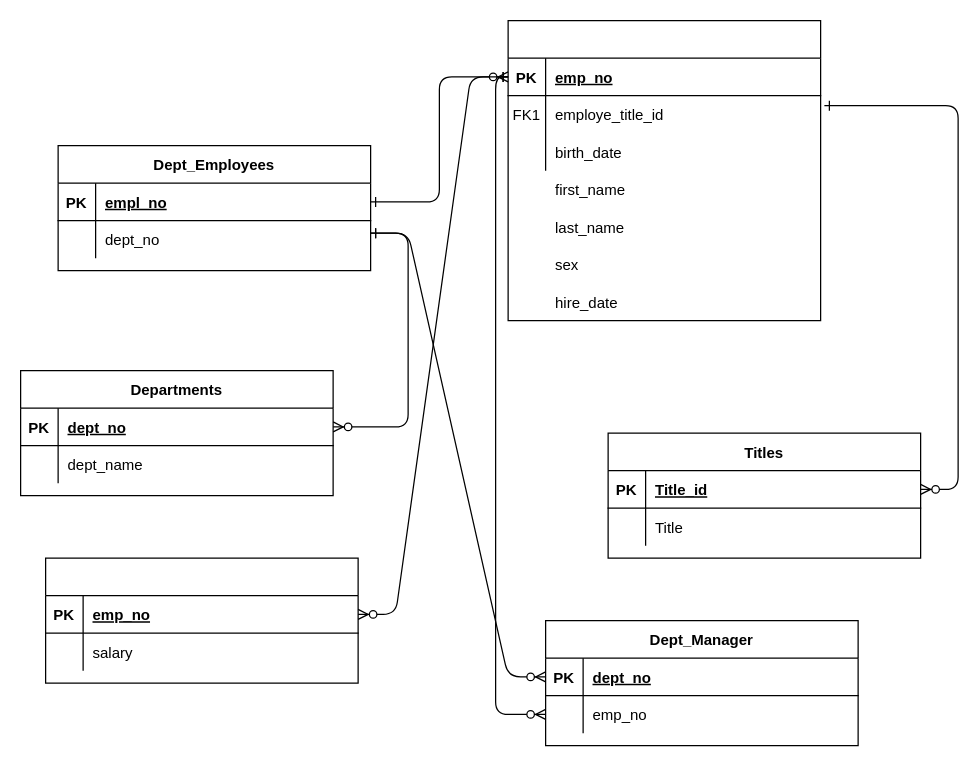
Image size: 979x766. Some labels were removed from this diagram. The box of each missing label's shape, as (x1, y1, x2, y2) in pixels:
Employees: (507, 19, 821, 321)
Salaries: (44, 557, 358, 683)
